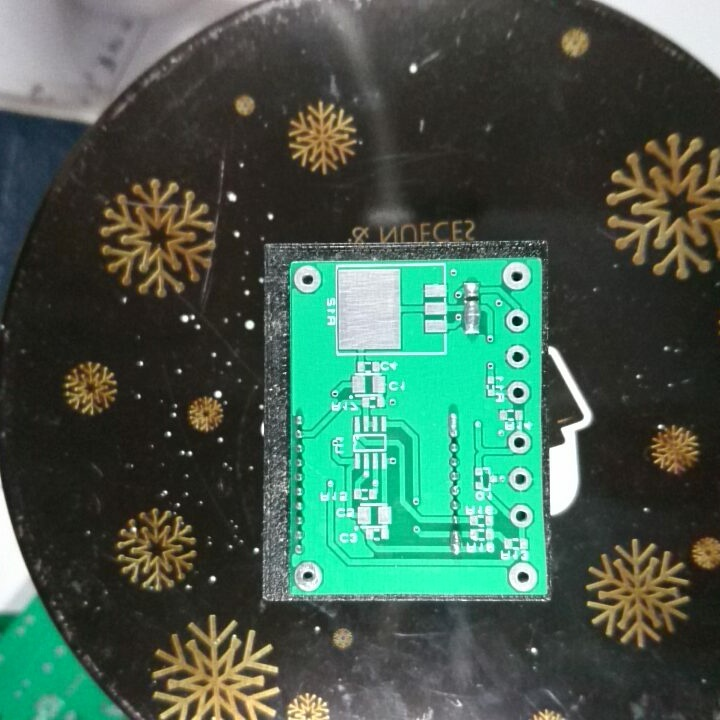F: (499, 261, 534, 292), (507, 560, 539, 593), (293, 558, 324, 592), (292, 263, 322, 295), (506, 463, 533, 493), (508, 502, 535, 532), (506, 428, 534, 455), (505, 342, 531, 371), (504, 307, 531, 333), (505, 379, 531, 404)
P: (462, 299, 482, 336), (446, 410, 461, 440), (448, 528, 461, 556)
